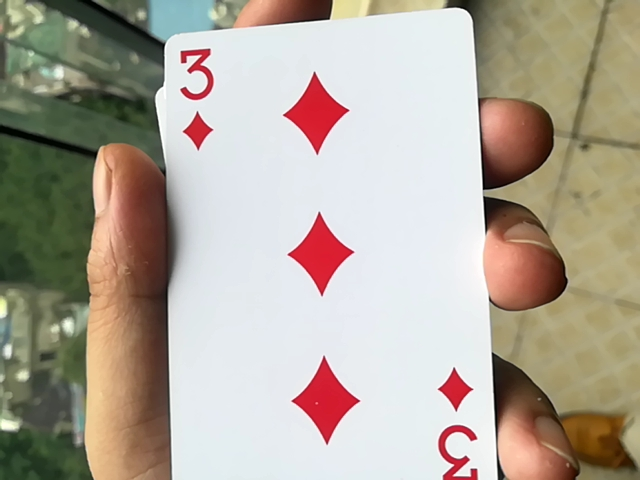fk 3: (134, 9, 507, 475)
